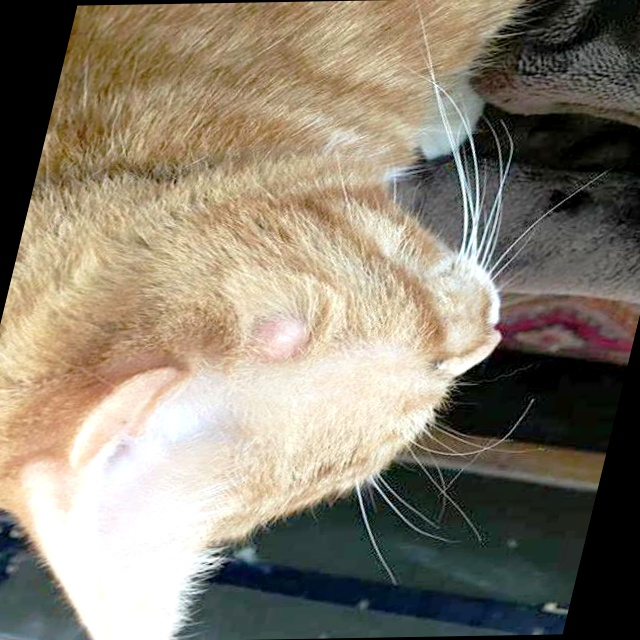lump_and_bump: (240, 307, 316, 369)
